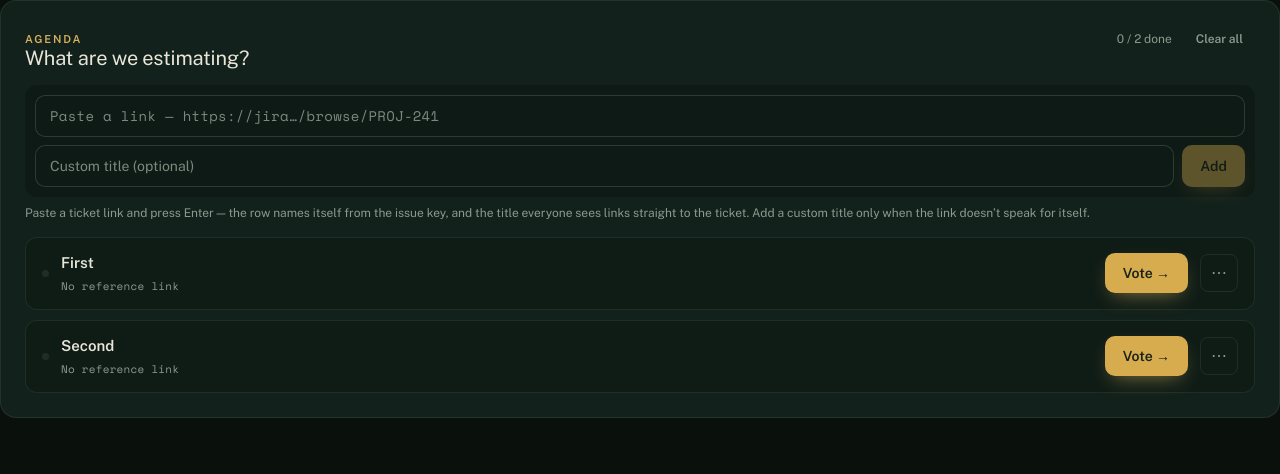
Test case: Agenda › the overflow menu › closes on a click elsewhere in the agenda
The image size is (1280, 474).
Click the button named "more actions for First" at x=1219, y=273, box left=1200, top=254, right=1238, bottom=292
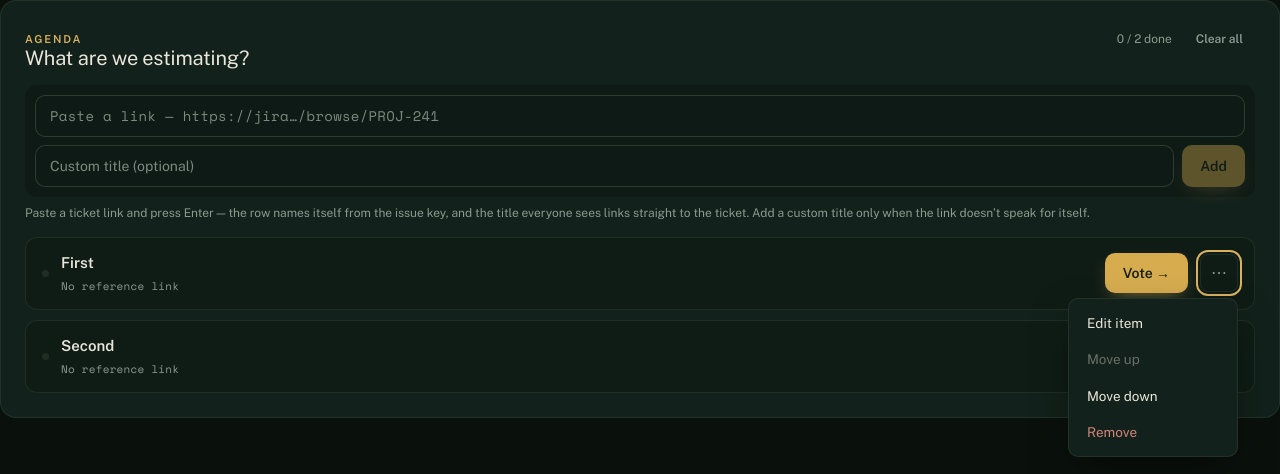
Click the field named "item title" at x=605, y=166, box left=35, top=144, right=1174, bottom=186
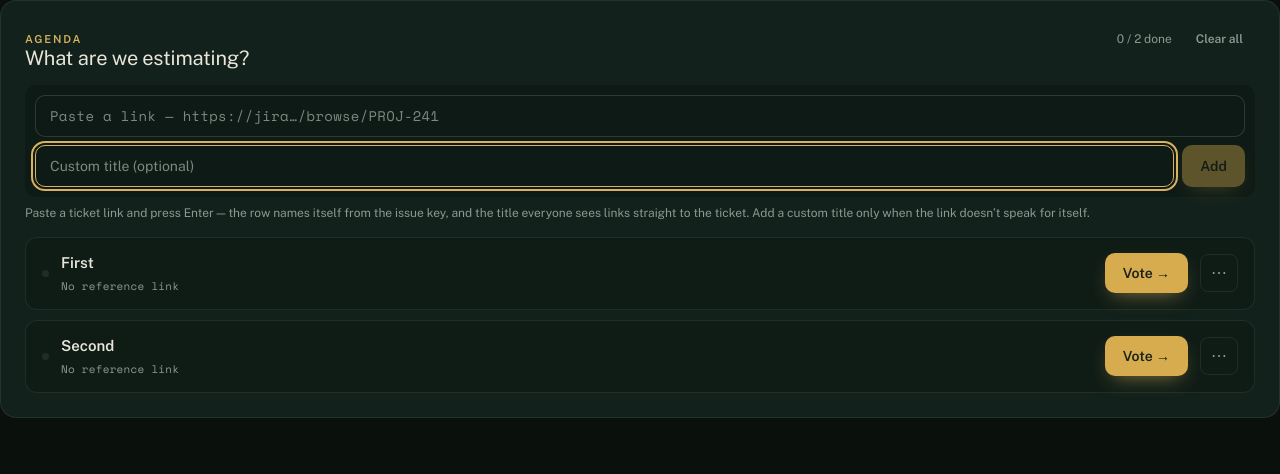
Now the button "Remove" is gone
